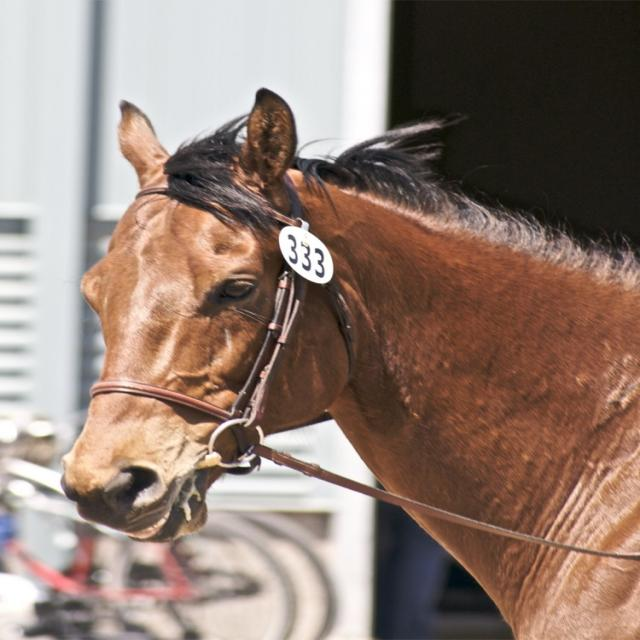Horse: (59, 87, 639, 640)
